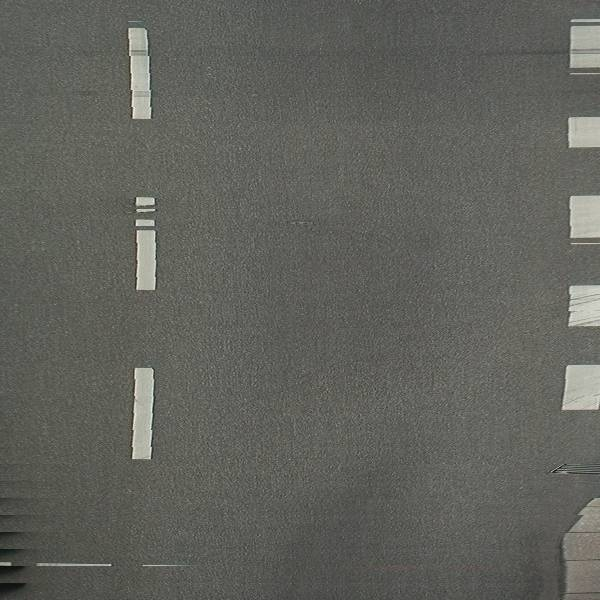road_damage: (288, 217, 314, 228)
